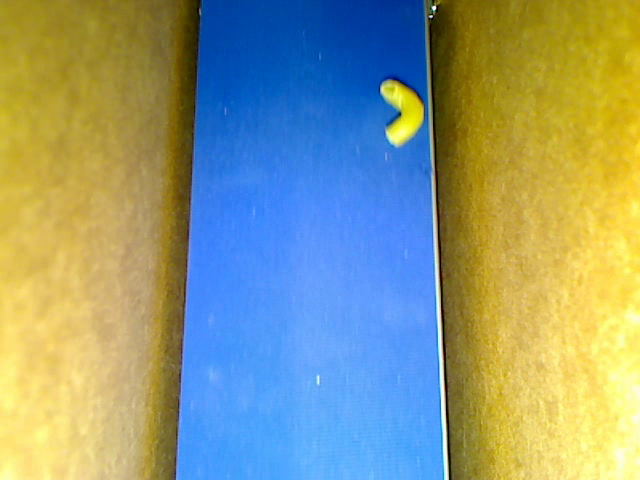elbow: (381, 80, 425, 148)
